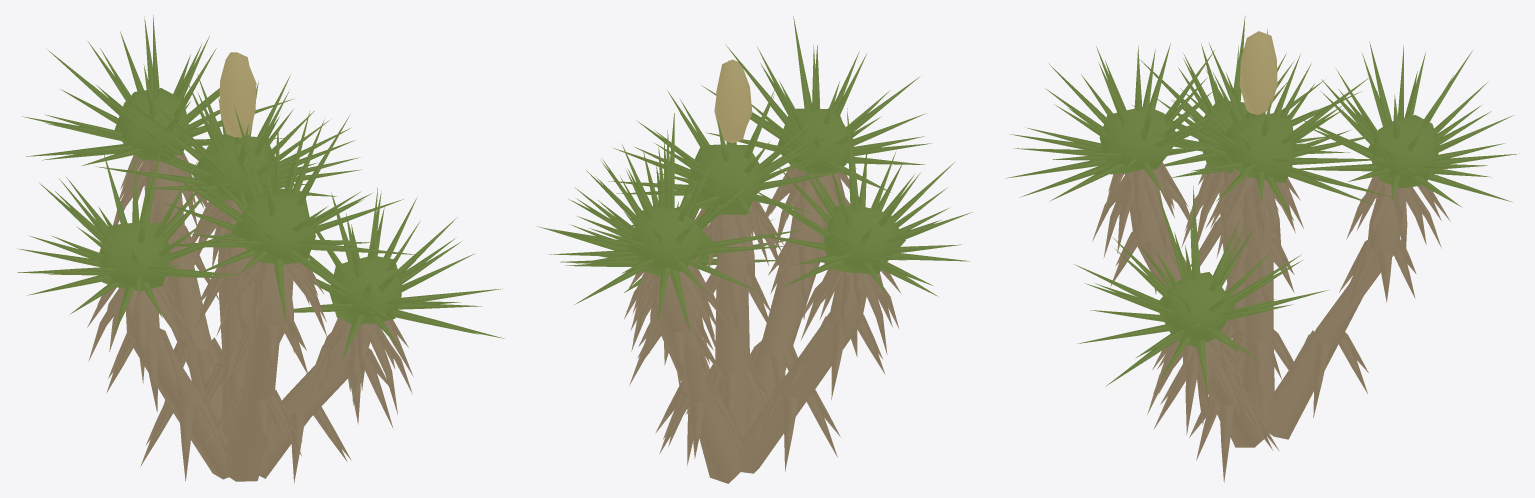
File: Blender_MojaveYucca_1.glb
3 renders of one model, left to right at view 1: azimuth 30°, elevation 25°; view 2: azimuth 150°, elevation 25°; view 3: azimuth 270°, elevation 25°, orthographic. The views are drawn at different scales.
Visible parts, largest first — view 1: Blender_MojaveYucca_1; view 2: Blender_MojaveYucca_1; view 3: Blender_MojaveYucca_1.
Boxes of the visible parts, box(x1,y1,x2,y2) form: Blender_MojaveYucca_1: box(17, 15, 504, 483); Blender_MojaveYucca_1: box(537, 16, 972, 483); Blender_MojaveYucca_1: box(1004, 15, 1519, 482).
Size of the model in its own units: 2.92 by 2.76 by 3.16.
